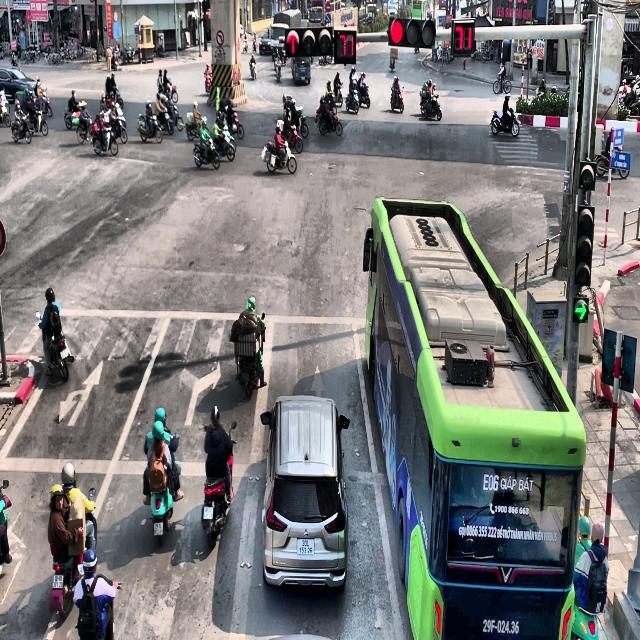BUS: (362, 196, 586, 639)
CAR: (260, 395, 350, 590), (0, 67, 39, 102)
MOTORBIKE: (50, 487, 97, 620), (201, 422, 237, 550), (147, 434, 179, 546), (234, 312, 266, 398), (36, 312, 74, 382), (262, 139, 297, 175), (282, 94, 308, 138), (594, 150, 630, 179), (0, 479, 12, 565), (159, 95, 184, 131), (315, 104, 342, 137), (193, 138, 220, 170), (490, 108, 519, 137), (212, 128, 236, 162), (93, 125, 118, 156), (219, 108, 244, 139), (137, 114, 163, 143), (419, 88, 442, 120), (64, 101, 88, 130), (11, 112, 31, 144), (284, 123, 303, 153), (28, 108, 48, 136), (76, 115, 95, 144), (108, 115, 127, 143), (155, 109, 174, 135), (0, 89, 11, 127), (493, 71, 511, 94), (390, 84, 404, 112), (162, 81, 178, 104), (345, 88, 359, 114), (40, 88, 52, 117), (358, 83, 370, 108), (333, 82, 343, 106), (274, 57, 282, 82), (249, 60, 257, 80), (204, 74, 212, 92)
TRAFFIC_LIGHT: (574, 203, 595, 287), (284, 26, 333, 58), (388, 16, 436, 48), (334, 28, 357, 64), (452, 20, 475, 54)
